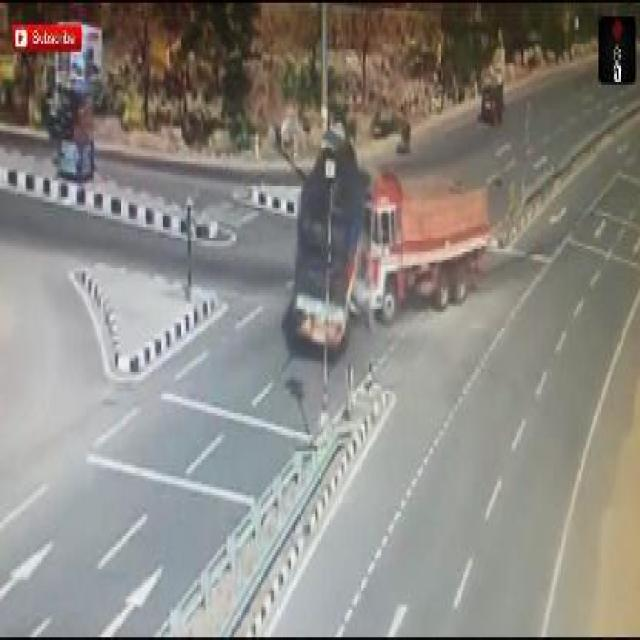accident: (282, 129, 492, 361)
